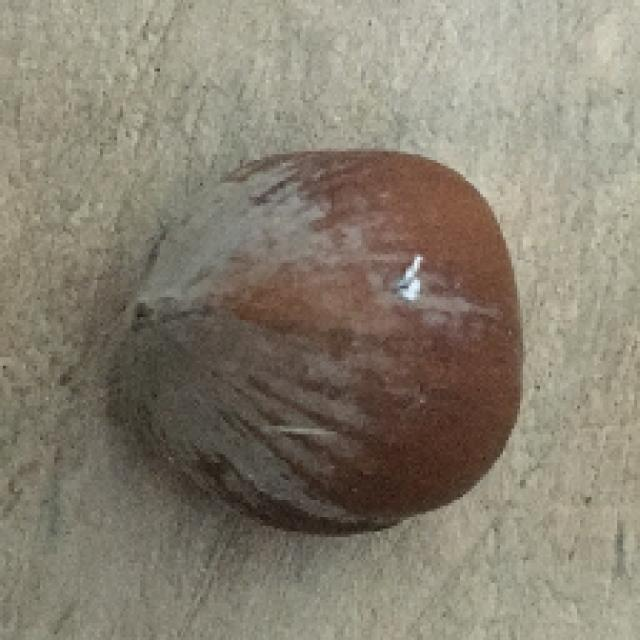qualityHazelnut: (93, 137, 529, 556)
